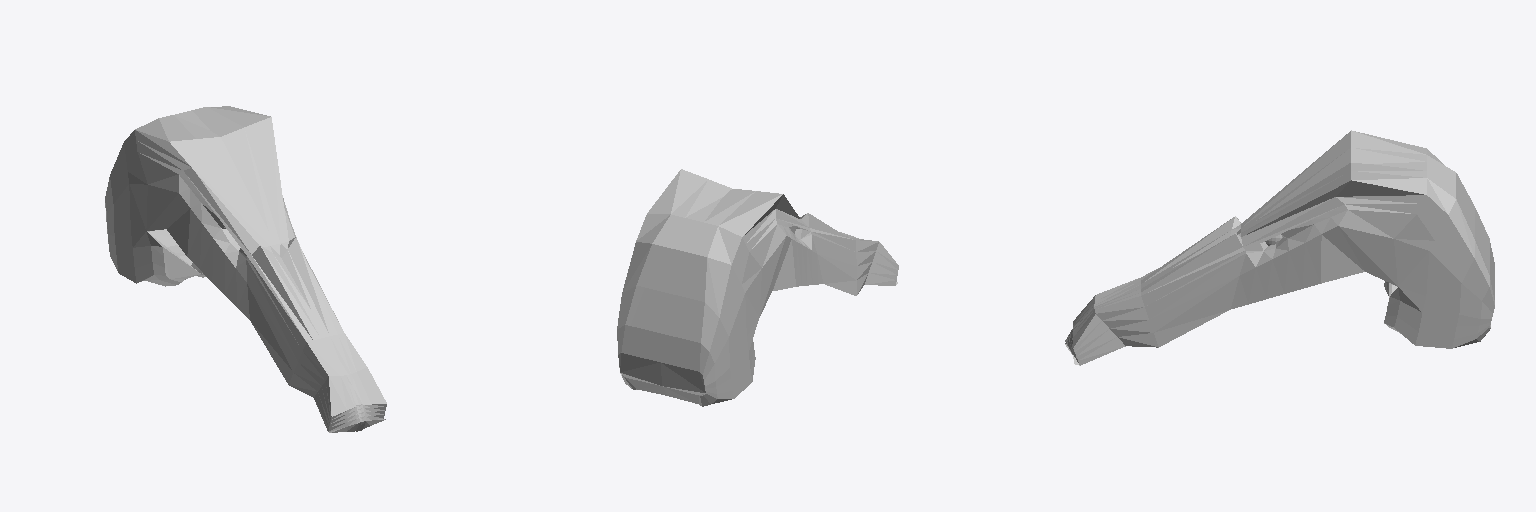
File: spinosaurusUpperHeadOfficial.obj
3 views of the same model, side by side, from view 1: azimuth 30°, elevation 25°; view 2: azimuth 150°, elevation 25°; view 3: azimuth 270°, elevation 25° (orthographic).
Visible parts, largest first — view 1: SpinoHead_Cube.000; view 2: SpinoHead_Cube.000; view 3: SpinoHead_Cube.000.
Part boxes in pixels (left/top/right/bottom): SpinoHead_Cube.000: left=105, top=106, right=386, bottom=432; SpinoHead_Cube.000: left=617, top=169, right=898, bottom=406; SpinoHead_Cube.000: left=1065, top=130, right=1494, bottom=365.
Bounding box in the file's own units: 0.6455 × 1.19 × 2.31.